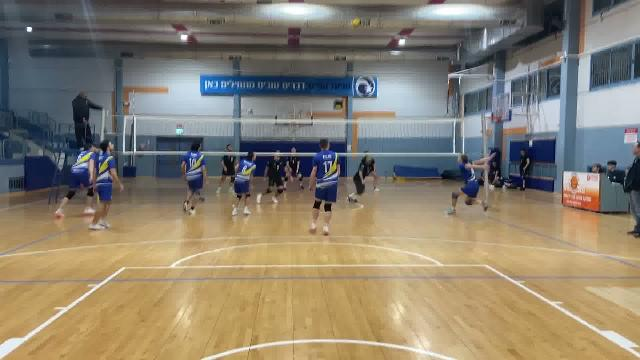ball: (349, 16, 361, 30)
